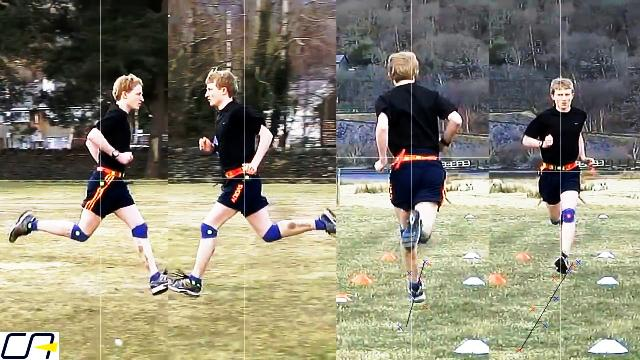berlari: (165, 59, 337, 292), (4, 69, 166, 306), (371, 47, 472, 309), (518, 67, 610, 277)
